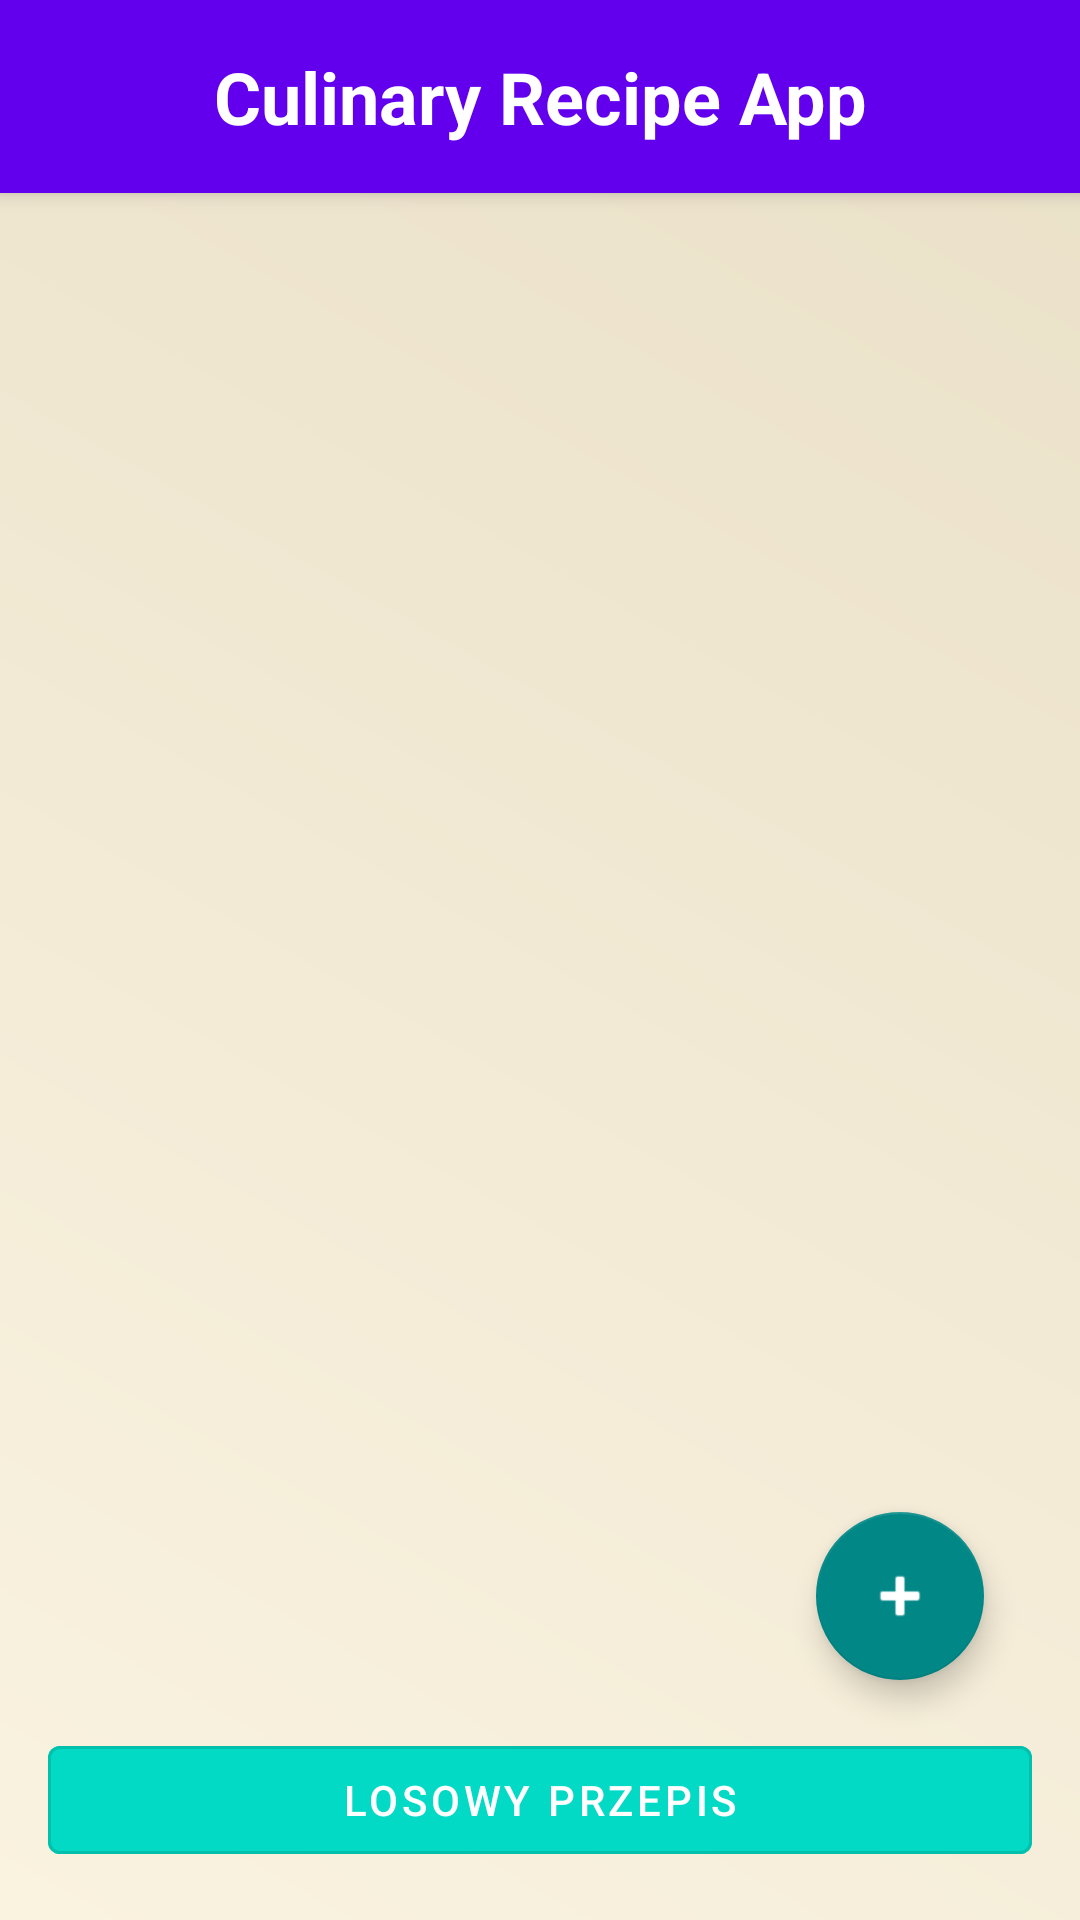

Icons on this 1080 × 1920 Android screen, each with the point to tap as (x=x, y=y):
Dodaj Przepis: (x=900, y=1596)
